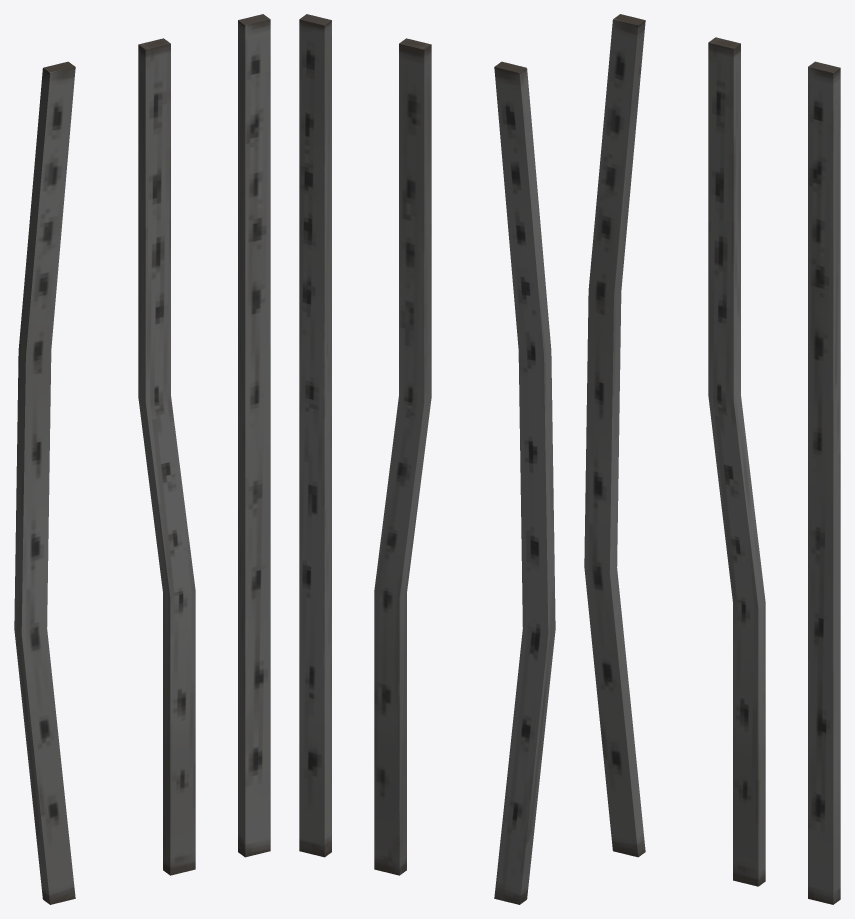
Rendered from sign_metals.fbx.
3 views of the same model, side by side, from view 1: azimuth 30°, elevation 25°; view 2: azimuth 150°, elevation 25°; view 3: azimuth 330°, elevation 25° (orthographic).
Visible parts, largest first — view 1: signmetal1, signmetal3, signmetal2; view 2: signmetal1, signmetal3, signmetal2; view 3: signmetal1, signmetal2, signmetal3.
Part boxes in pixels (bbox=[...]): signmetal1: bbox=[14, 61, 75, 904]; signmetal3: bbox=[238, 14, 270, 857]; signmetal2: bbox=[138, 38, 195, 875]; signmetal1: bbox=[494, 61, 555, 904]; signmetal3: bbox=[299, 14, 331, 857]; signmetal2: bbox=[374, 38, 431, 875]; signmetal1: bbox=[584, 14, 645, 857]; signmetal2: bbox=[708, 37, 765, 886]; signmetal3: bbox=[808, 61, 840, 904].
Size of the model in its own units: 0.7829 by 2.5 by 0.04.
